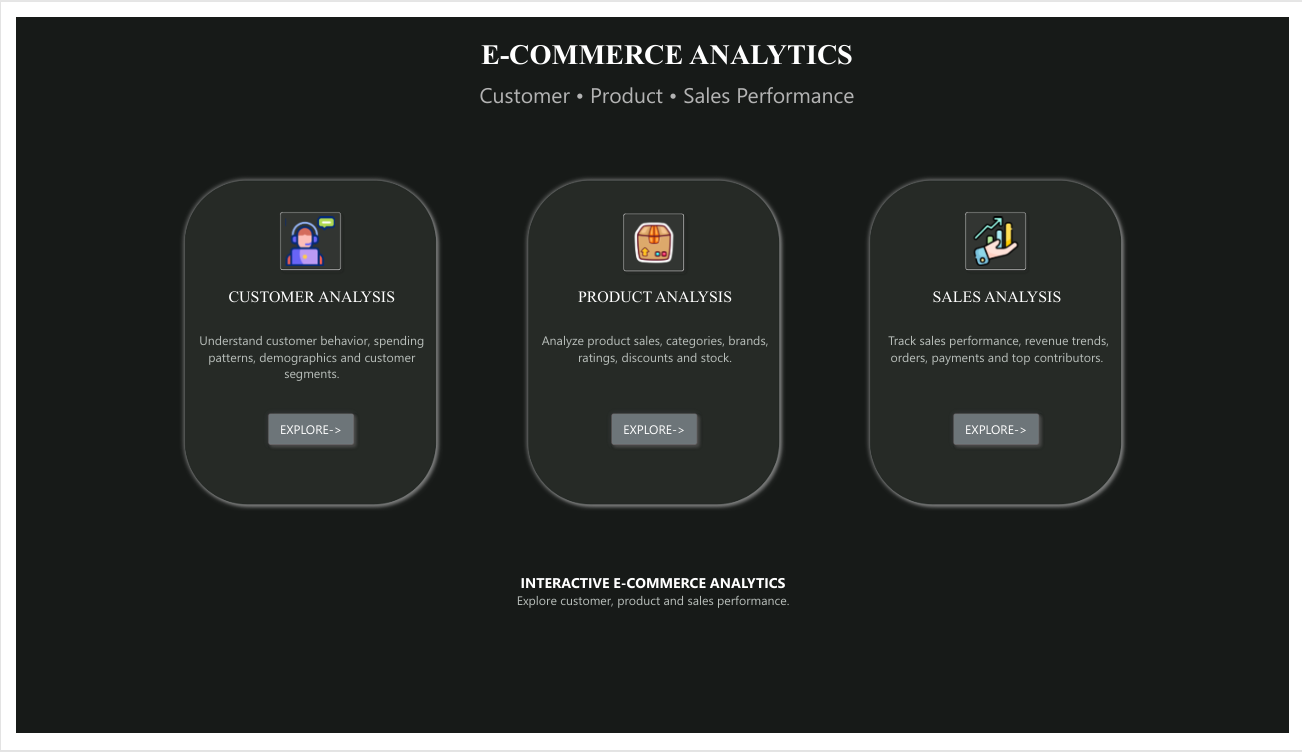

Layout of this report page (visuals, bound fields, positions):
{"tool":"powerbi","page":{"name":"HOME","canvas":[1920,1080],"ordinal":0},"visuals":[{"type":"textbox","box":[0,30,1920,64],"z":0},{"type":"textbox","box":[0,94,1920,70],"z":1000},{"type":"shape","box":[244,236,398,508],"z":2000,"group":"g1"},{"type":"shape","box":[1278,236,398,508],"z":3000},{"type":"actionButton","box":[388,284,110,106],"z":3000,"group":"g1"},{"type":"shape","box":[762,236,398,508],"z":4000},{"type":"textbox","box":[246,408,398,106],"z":4000,"group":"g1"},{"type":"actionButton","box":[1422,284,110,106],"z":5000},{"type":"actionButton","box":[906,286,110,106],"z":6000},{"type":"textbox","box":[246,474,398,80],"z":6000,"group":"g1"},{"type":"textbox","box":[1280,408,398,106],"z":7000},{"type":"actionButton","box":[370,588,148,66],"z":7000,"group":"g1"},{"type":"group","id":"g1","title":"Group 1","box":[244,236,400,508],"z":8000},{"type":"textbox","box":[1280,474,398,80],"z":9000},{"type":"textbox","box":[764,408,398,106],"z":10000},{"type":"actionButton","box":[1404,588,148,66],"z":11000},{"type":"textbox","box":[764,474,398,80],"z":12000},{"type":"actionButton","box":[888,588,148,66],"z":13000},{"type":"textbox","box":[0,838,1920,194],"z":14000}]}

Visuals, with their boxes in screenshot pixels (x1, y1, x2, y2), scaled from the page's 1920x1080 canvas onto the 1302x752 screenshot:
textbox: 0, 21, 1301, 65
textbox: 0, 65, 1301, 114
shape: 165, 164, 435, 518
shape: 867, 164, 1137, 518
actionButton: 263, 198, 338, 272
shape: 517, 164, 787, 518
textbox: 167, 284, 437, 358
actionButton: 964, 198, 1039, 272
actionButton: 614, 199, 689, 273
textbox: 167, 330, 437, 386
textbox: 868, 284, 1138, 358
actionButton: 251, 409, 351, 455
"Group 1" group: 165, 164, 437, 518
textbox: 868, 330, 1138, 386
textbox: 518, 284, 788, 358
actionButton: 952, 409, 1052, 455
textbox: 518, 330, 788, 386
actionButton: 602, 409, 703, 455
textbox: 0, 583, 1301, 719
